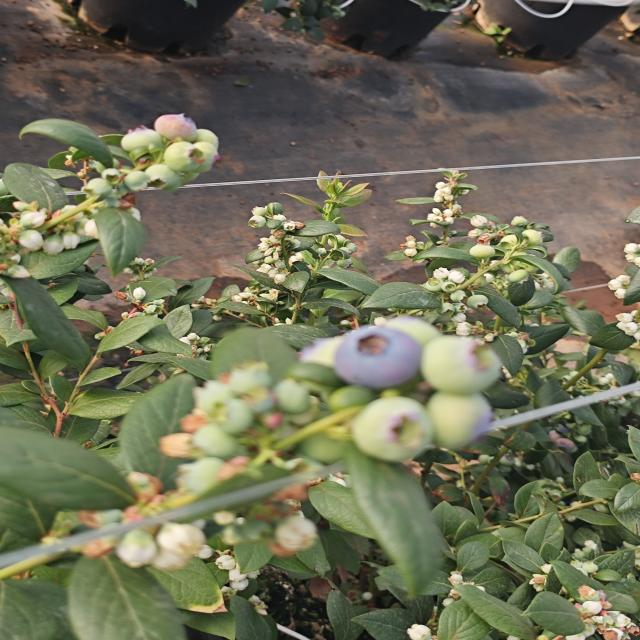ripe: (332, 324, 424, 386)
